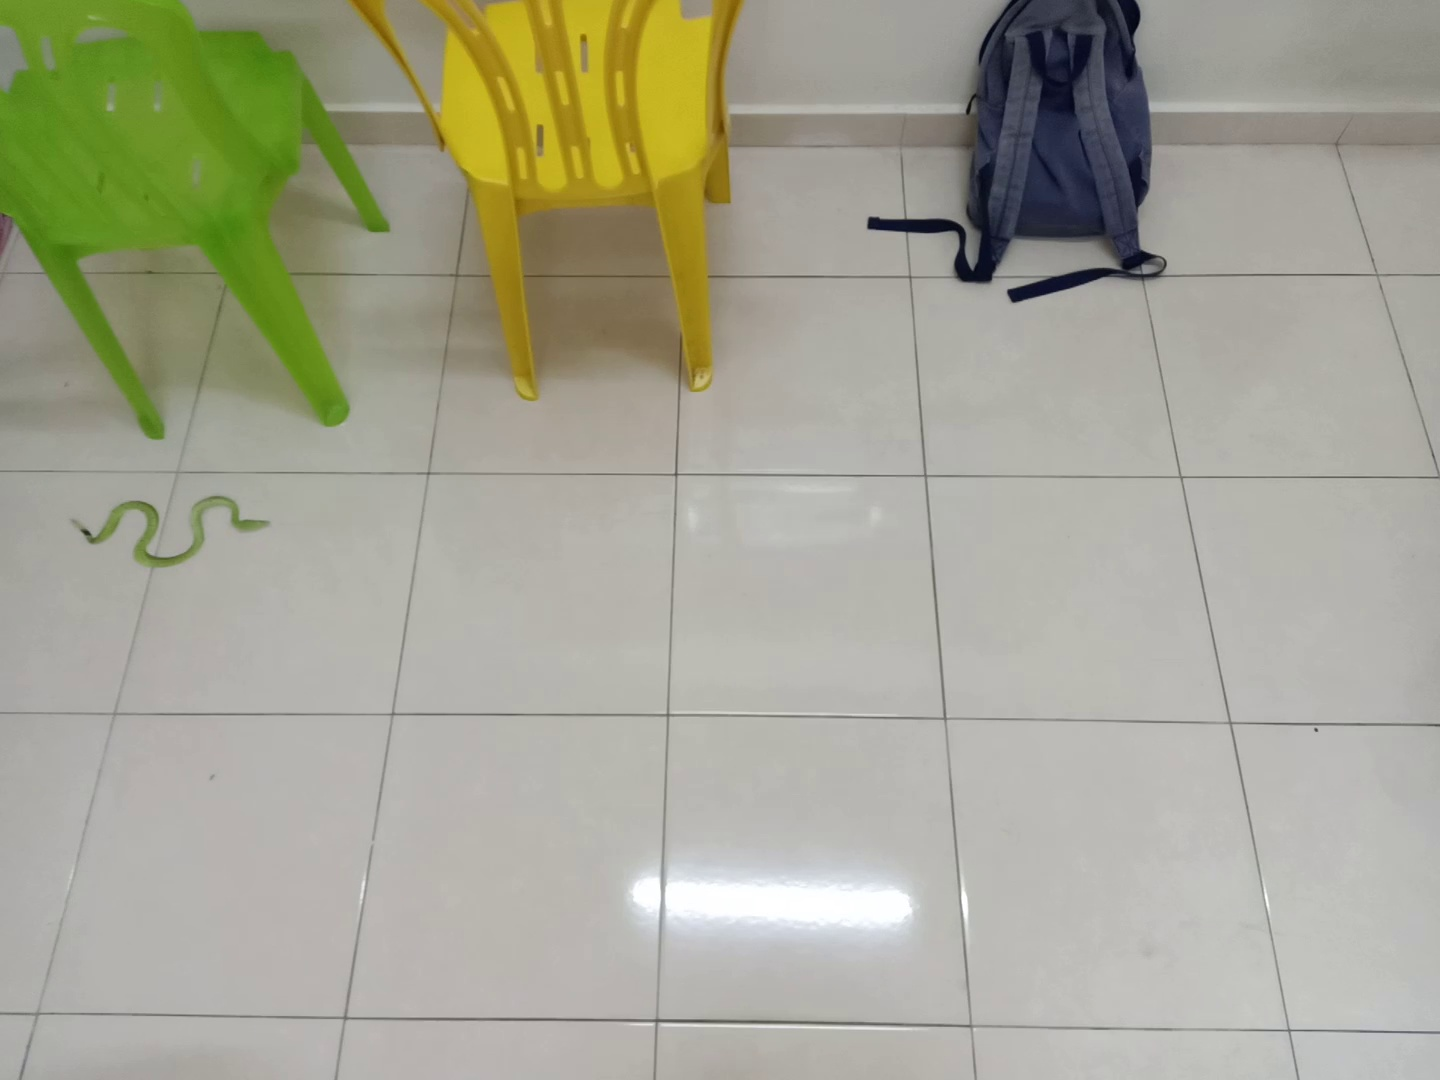snake: (61, 482, 283, 575)
